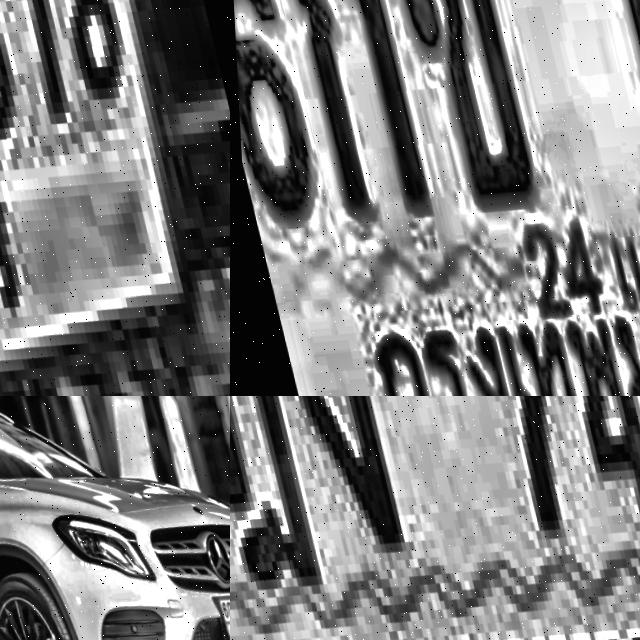license-plate: (230, 0, 640, 396), (230, 396, 640, 640), (0, 0, 230, 396), (207, 569, 230, 637)
